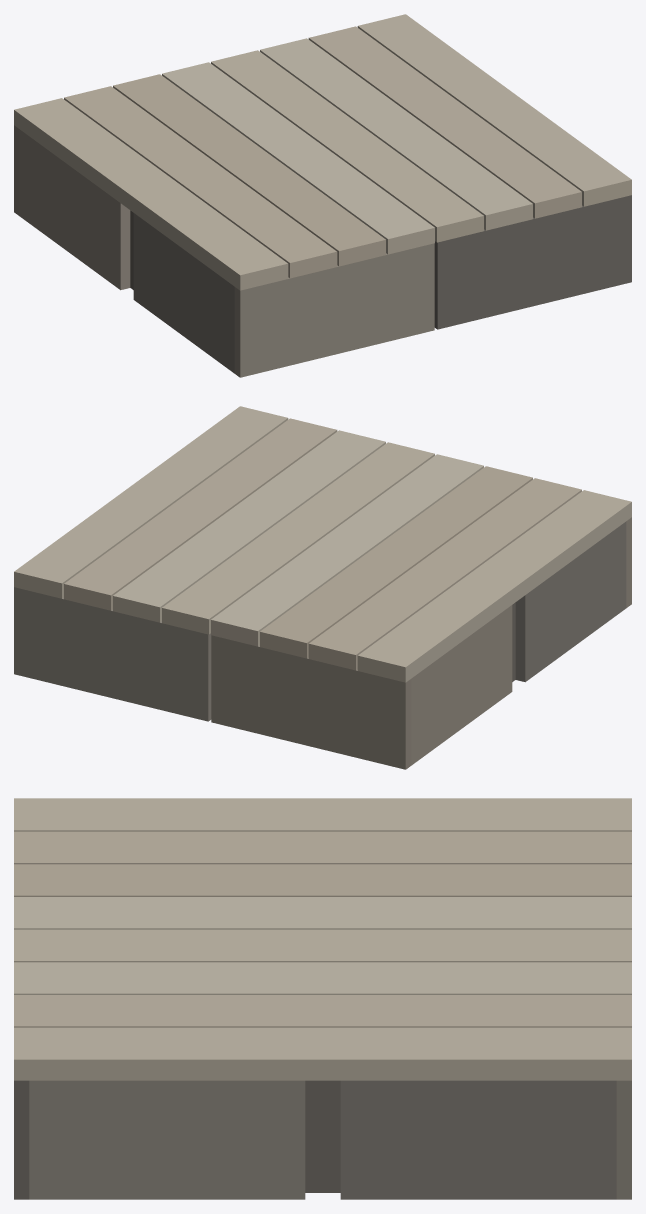
File: Foundation8.glb
The picture shows the model from 3 angles, top to bottom: view 1: azimuth 30°, elevation 25°; view 2: azimuth 150°, elevation 25°; view 3: azimuth 270°, elevation 25°; orthographic projection. The views are drawn at different scales.
Parts seen in each view (by area): view 1: Wood, Trim; view 2: Wood, Trim; view 3: Wood, Trim.
Boxes of the visible parts, x1,y1,x2,y2 form: Wood: (14, 14, 631, 290); Trim: (14, 125, 631, 377); Wood: (14, 406, 631, 682); Trim: (14, 517, 631, 769); Wood: (14, 798, 631, 1080); Trim: (14, 1080, 631, 1199).
Size of what is drawn, in the model's own units: 8 by 2 by 8.
